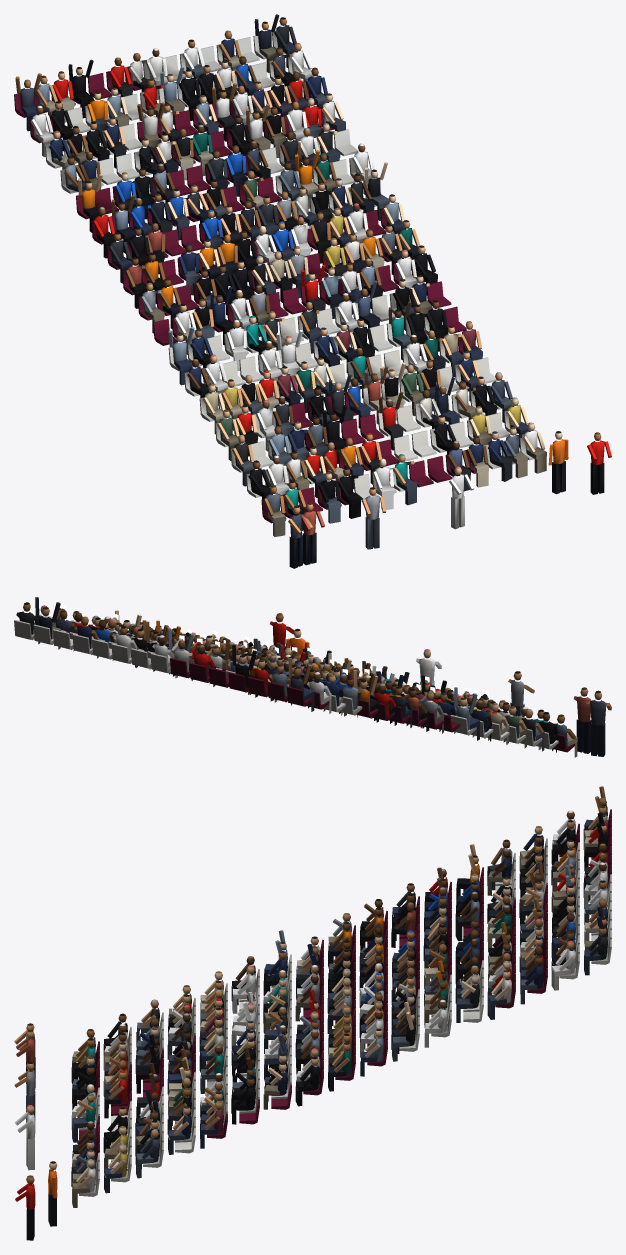
File: stand_T3_kit_2.glb
3 renders of one model, top to bottom at view 1: azimuth 30°, elevation 25°; view 2: azimuth 150°, elevation 25°; view 3: azimuth 270°, elevation 25°, orthographic. The views are drawn at different scales.
Visible parts, largest first — view 1: kit_2; view 2: kit_2; view 3: kit_2.
Part boxes in pixels (x1,y1,x2,y2): kit_2: (14, 14, 611, 568); kit_2: (14, 597, 611, 757); kit_2: (14, 786, 611, 1240).
Size of the model in its own units: 9.56 by 8.21 by 14.95.
